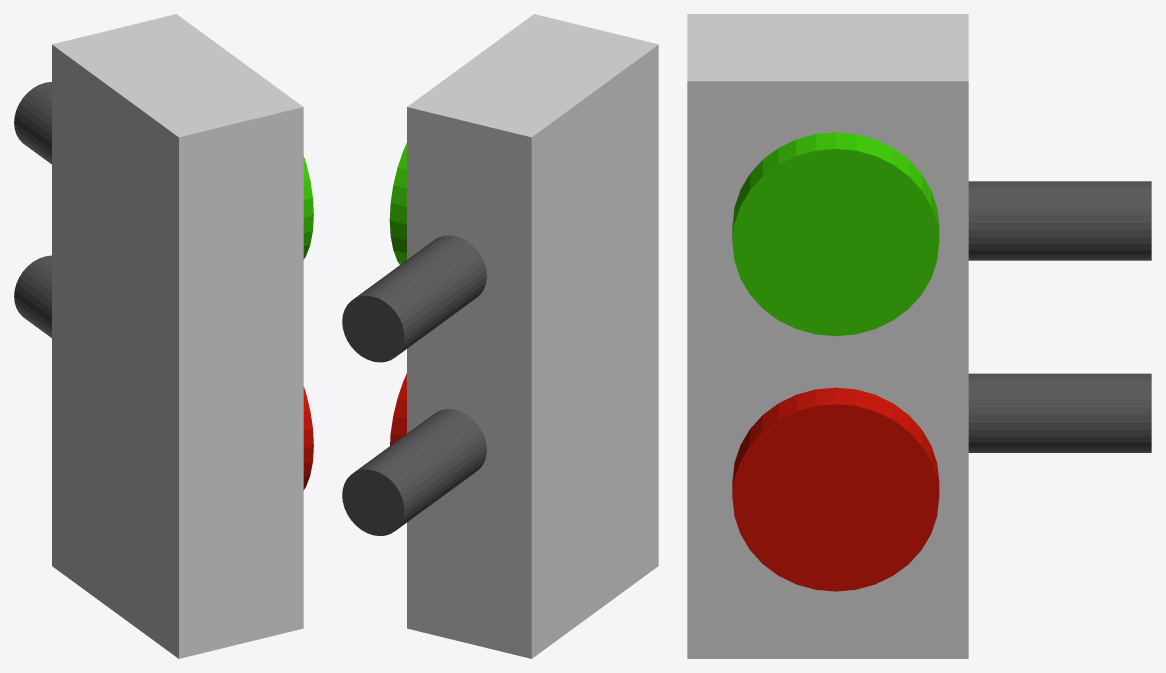
File: acces.fbx
The picture shows the model from 3 angles, left to right: view 1: azimuth 30°, elevation 25°; view 2: azimuth 150°, elevation 25°; view 3: azimuth 270°, elevation 25°; orthographic projection. The views are drawn at different scales.
Visible parts, largest first — view 1: Cube, Cylinder.003, Cylinder.002, Cylinder, Cylinder.001; view 2: Cube, Cylinder.002, Cylinder.003, Cylinder.001, Cylinder; view 3: Cube, Cylinder.001, Cylinder, Cylinder.002, Cylinder.003.
Part boxes in pixels (bbox=[...]): Cube: bbox=[52, 14, 303, 658]; Cylinder.003: bbox=[14, 255, 51, 337]; Cylinder.002: bbox=[14, 82, 51, 164]; Cylinder: bbox=[303, 386, 313, 489]; Cylinder.001: bbox=[303, 156, 313, 259]; Cube: bbox=[407, 14, 658, 658]; Cylinder.002: bbox=[342, 235, 486, 362]; Cylinder.003: bbox=[342, 409, 486, 535]; Cylinder.001: bbox=[389, 143, 406, 264]; Cylinder: bbox=[390, 373, 406, 445]; Cube: bbox=[687, 14, 968, 658]; Cylinder.001: bbox=[732, 132, 939, 336]; Cylinder: bbox=[732, 387, 939, 591]; Cylinder.002: bbox=[968, 181, 1151, 260]; Cylinder.003: bbox=[968, 373, 1151, 452].
Bounding box in the file's own units: 298 × 956 × 696.
